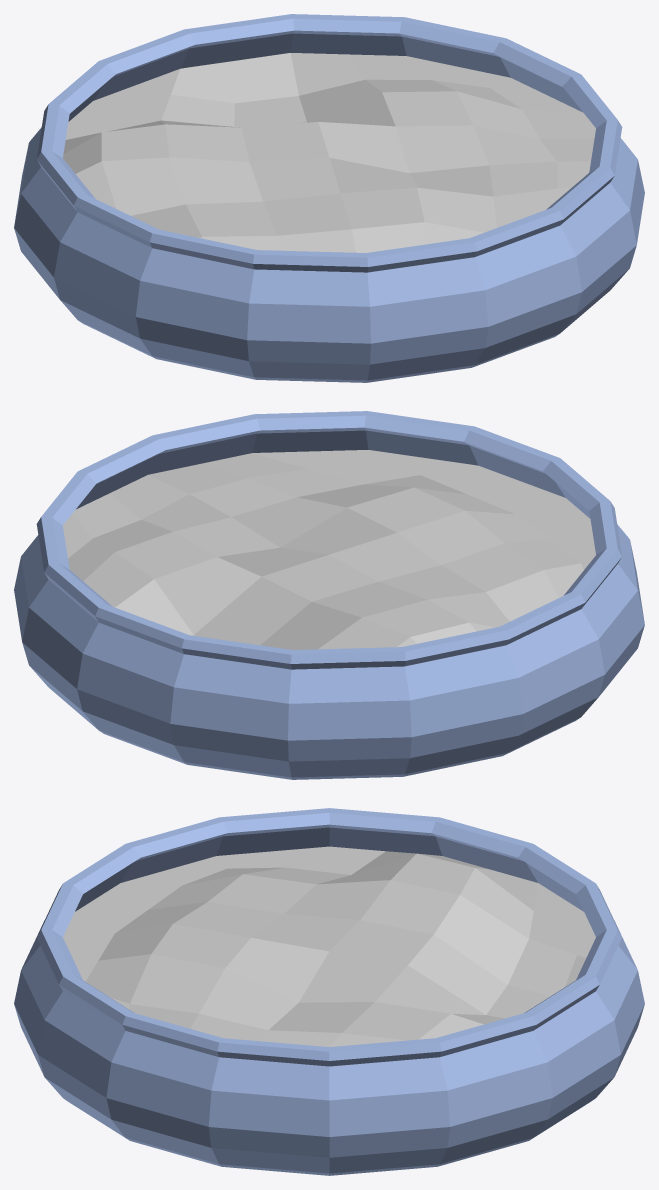
Rendered from SM_SwimmingPool_04_A.gltf.
3 renders of one model, top to bottom at view 1: azimuth 30°, elevation 25°; view 2: azimuth 150°, elevation 25°; view 3: azimuth 270°, elevation 25°, orthographic.
Parts seen in each view (by area): view 1: SwimmingPool_04_A; view 2: SwimmingPool_04_A; view 3: SwimmingPool_04_A.
Boxes of the visible parts, x1,y1,x2,y2 form: SwimmingPool_04_A: (14,14,644,382); SwimmingPool_04_A: (14,411,644,779); SwimmingPool_04_A: (14,808,644,1175).
Size of the model in its own units: 3.66 by 0.812 by 3.66.
